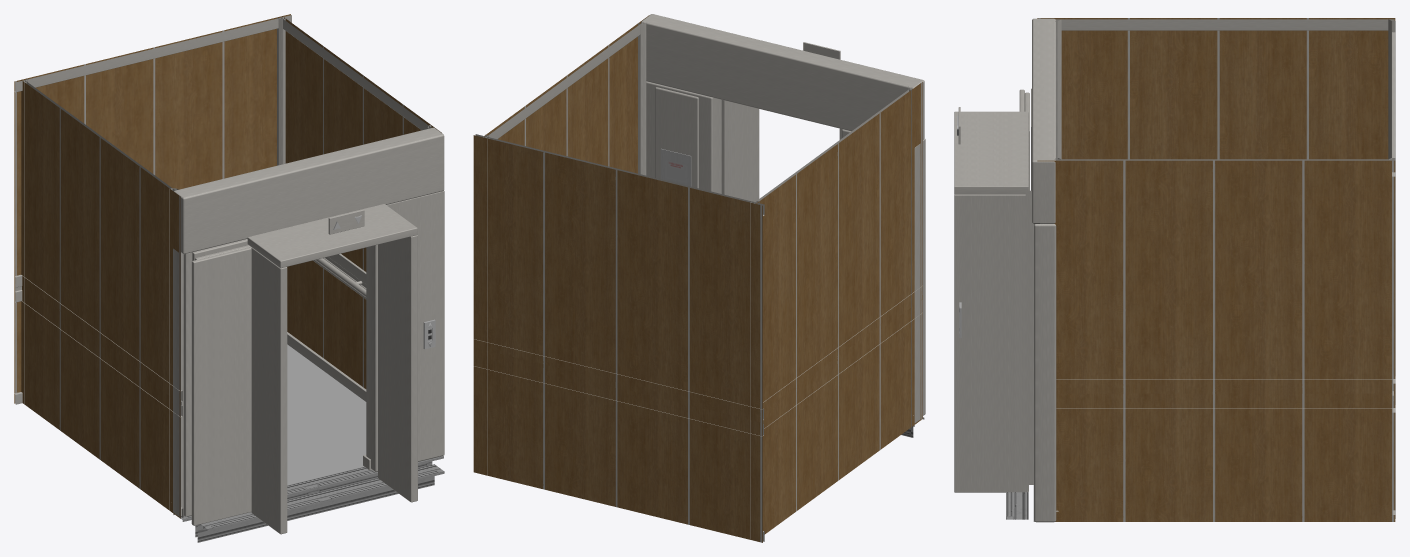
File: SM_Elevator Bigger.fbx
The picture shows the model from 3 angles, left to right: view 1: azimuth 30°, elevation 25°; view 2: azimuth 150°, elevation 25°; view 3: azimuth 270°, elevation 25°; orthographic projection. The views are drawn at different scales.
Parts seen in each view (by area): view 1: SM_Elevator01c; view 2: SM_Elevator01c; view 3: SM_Elevator01c.
Part boxes in pixels (x1,y1,x2,y2): SM_Elevator01c: (14,14,444,542); SM_Elevator01c: (473,14,925,542); SM_Elevator01c: (954,18,1395,522).
Bounding box in the file's own units: 234 × 280 × 288.
Materials: 2 (1 with a texture image).
